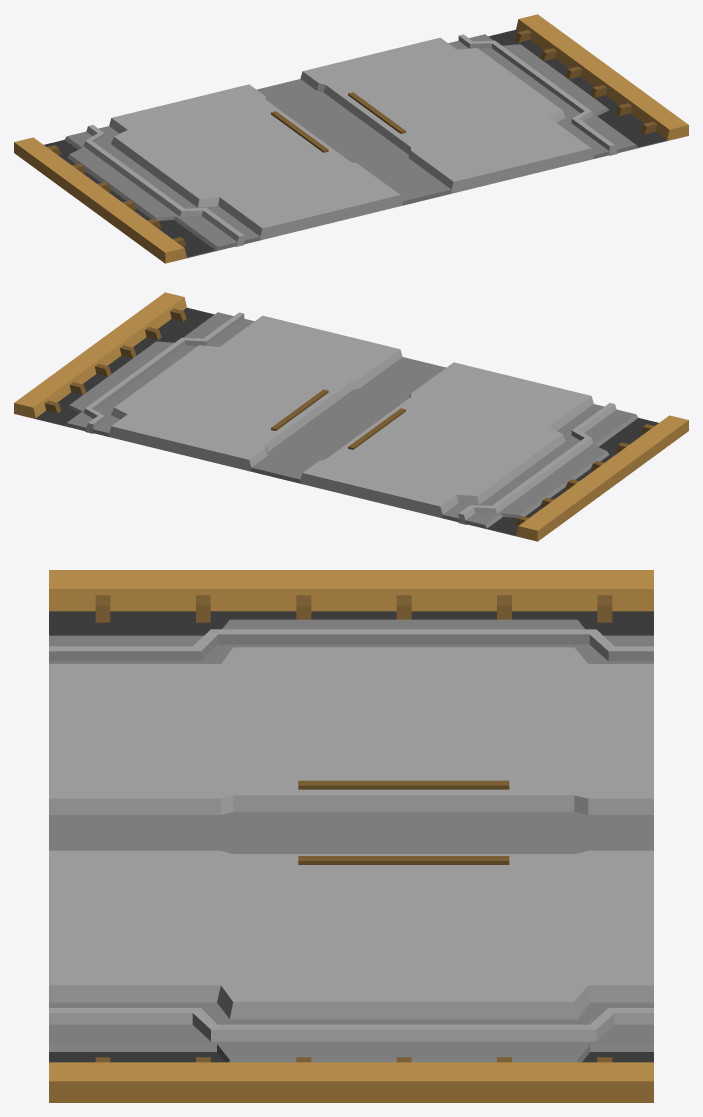
The model's file is floortile_double.014_lev3.glb.
3 views of the same model, one above another, from view 1: azimuth 30°, elevation 25°; view 2: azimuth 150°, elevation 25°; view 3: azimuth 270°, elevation 25° (orthographic). The views are drawn at different scales.
Visible parts, largest first — view 1: floortile_double.014_lev3; view 2: floortile_double.014_lev3; view 3: floortile_double.014_lev3.
Boxes of the visible parts, x1=… form: floortile_double.014_lev3: x1=14, y1=14, x2=688, y2=263; floortile_double.014_lev3: x1=14, y1=292, x2=688, y2=541; floortile_double.014_lev3: x1=49, y1=570, x2=653, y2=1102.
Size of the model in its own units: 4 by 0.1369 by 2.
